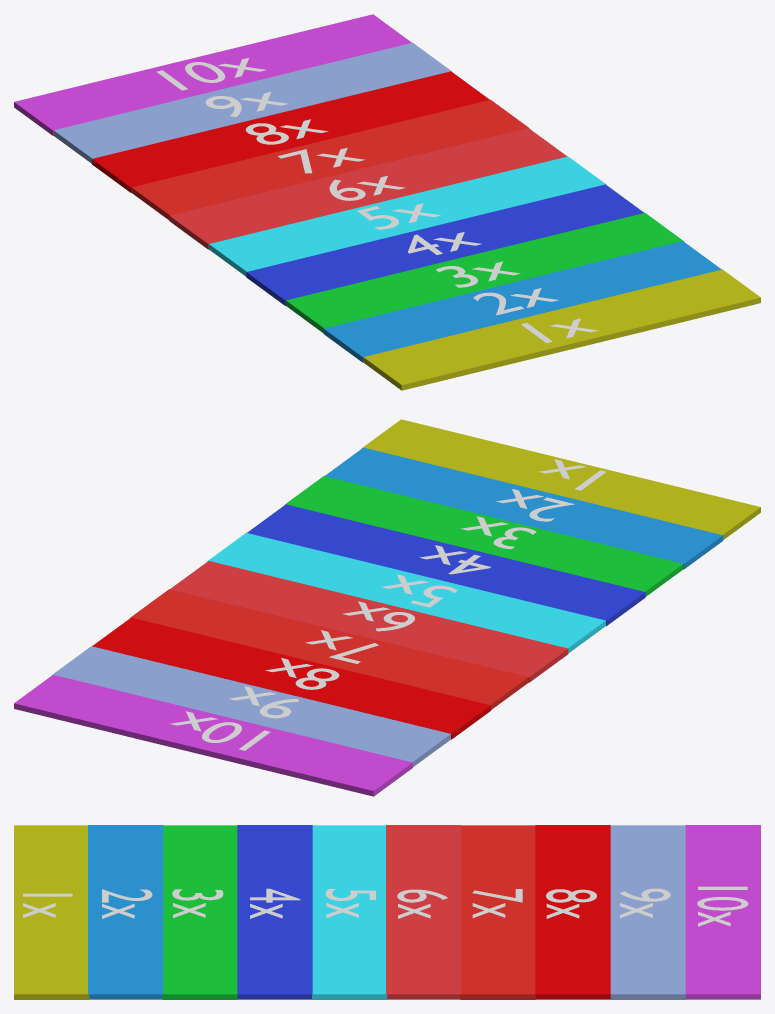
The model's file is Yol_sonu.fbx.
3 views of the same model, one above another, from view 1: azimuth 30°, elevation 25°; view 2: azimuth 150°, elevation 25°; view 3: azimuth 270°, elevation 25° (orthographic). The views are drawn at different scales.
Parts seen in each view (by area): view 1: yol1, yol2, yol4, yol6, yol9, yol8, yol7, yol10, yol3, yol5, Text.009, Text.008 (+2 smaller); view 2: yol10, yol2, yol4, yol6, yol8, yol9, yol1, yol7, yol3, yol5, Text.009, Text.008 (+2 smaller); view 3: yol4, yol2, yol6, yol9, yol8, yol7, yol3, yol10, yol1, yol5, Text.009, Text.008 (+8 smaller).
Boxes of the visible parts, box(x1,y1,x2,y2) form: yol1: box(363, 269, 760, 390); yol2: box(323, 241, 721, 362); yol4: box(246, 184, 643, 305); yol6: box(169, 128, 567, 249); yol9: box(53, 42, 451, 163); yol8: box(92, 71, 489, 192); yol7: box(131, 99, 529, 219); yol10: box(14, 14, 411, 135); yol3: box(286, 212, 683, 333); yol5: box(209, 156, 606, 276); Text.009: box(156, 58, 266, 90); Text.008: box(245, 119, 328, 144); yol10: box(14, 675, 412, 796); yol2: box(324, 447, 723, 569); yol4: box(247, 504, 645, 626); yol6: box(170, 561, 568, 682); yol8: box(92, 617, 490, 739); yol9: box(52, 646, 450, 766); yol1: box(362, 419, 760, 539); yol7: box(130, 589, 528, 709); yol3: box(285, 475, 683, 596); yol5: box(207, 532, 605, 653); Text.009: box(170, 711, 270, 750); Text.008: box(265, 658, 339, 689); yol4: box(237, 825, 312, 999); yol2: box(88, 825, 163, 999); yol6: box(386, 825, 461, 999); yol9: box(610, 825, 685, 999); yol8: box(535, 825, 610, 999); yol7: box(460, 825, 535, 999); yol3: box(162, 825, 237, 999); yol10: box(685, 825, 760, 999); yol1: box(14, 825, 89, 999); yol5: box(312, 825, 387, 999); Text.009: box(697, 886, 748, 926); Text.008: box(546, 889, 596, 918).
Bounding box in the file's own units: 151 × 3.07 × 282.
